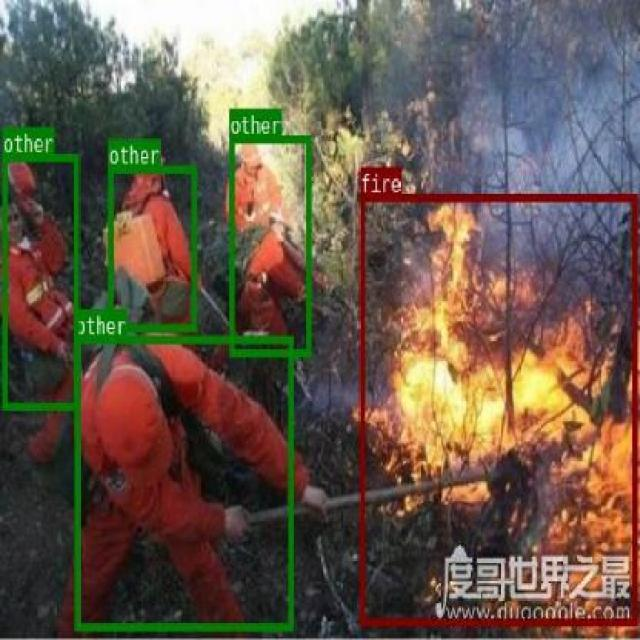fire: (359, 192, 636, 625)
